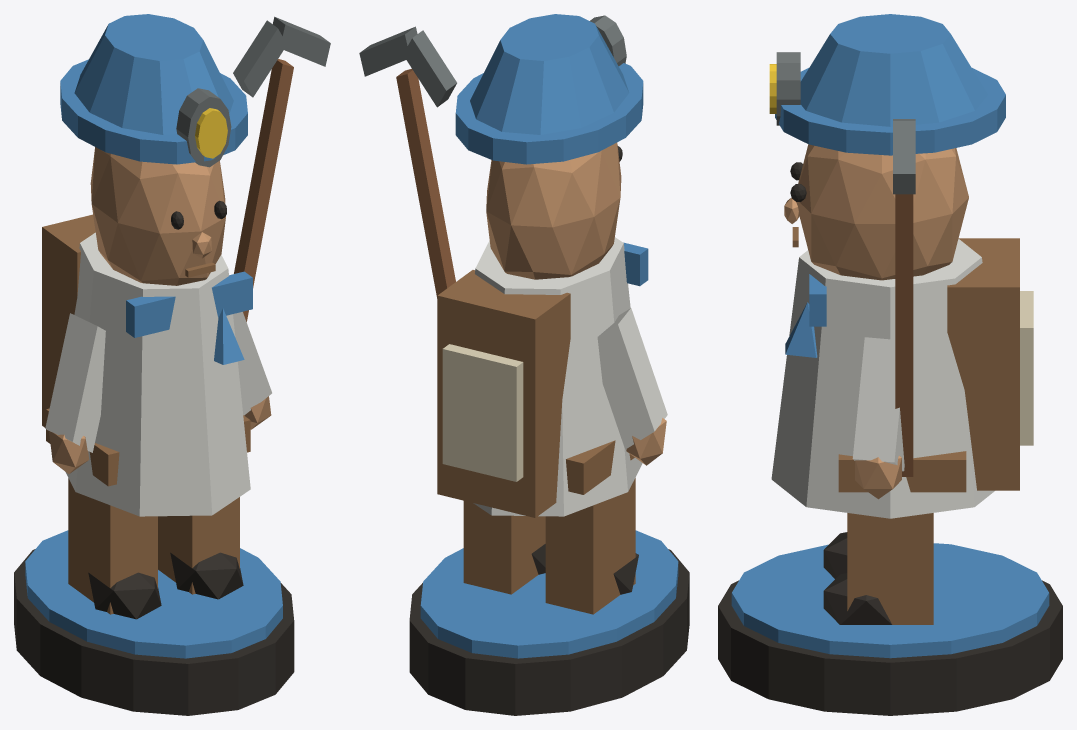
Rendered from peao_garimpeiro_anil.glb.
The picture shows the model from 3 angles, left to right: view 1: azimuth 30°, elevation 25°; view 2: azimuth 150°, elevation 25°; view 3: azimuth 270°, elevation 25°; orthographic projection. The views are drawn at different scales.
Visible parts, largest first — view 1: peao_garimpeiro_anil; view 2: peao_garimpeiro_anil; view 3: peao_garimpeiro_anil.
Part boxes in pixels (bbox=[...]): peao_garimpeiro_anil: bbox=[14, 14, 330, 715]; peao_garimpeiro_anil: bbox=[359, 14, 689, 715]; peao_garimpeiro_anil: bbox=[718, 14, 1062, 715].
Size of the model in its own units: 2 by 4 by 2.
